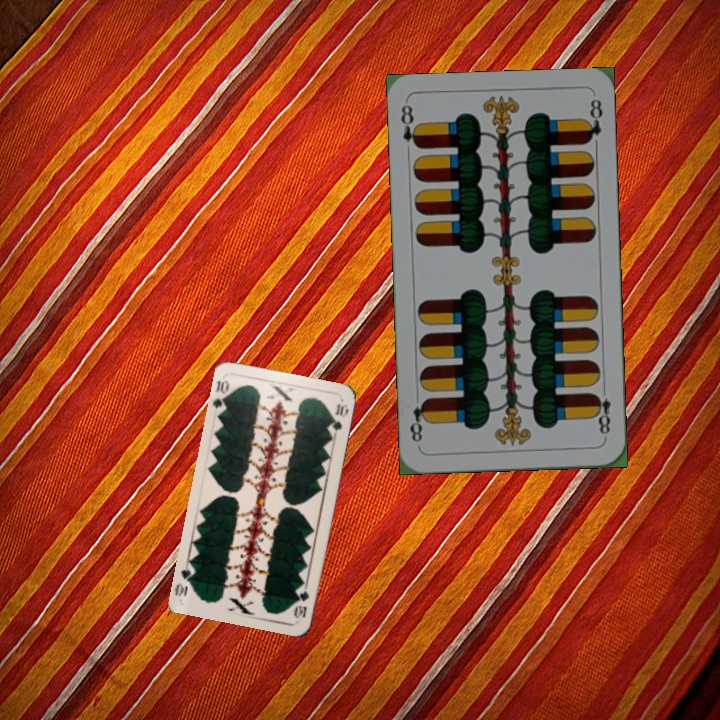E8: (590, 382, 613, 441), (396, 101, 422, 151)
G10: (209, 376, 232, 415), (290, 581, 312, 621)
